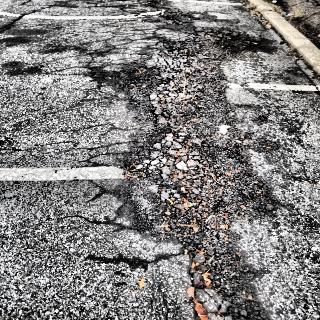alligator-crack: (93, 24, 274, 289)
